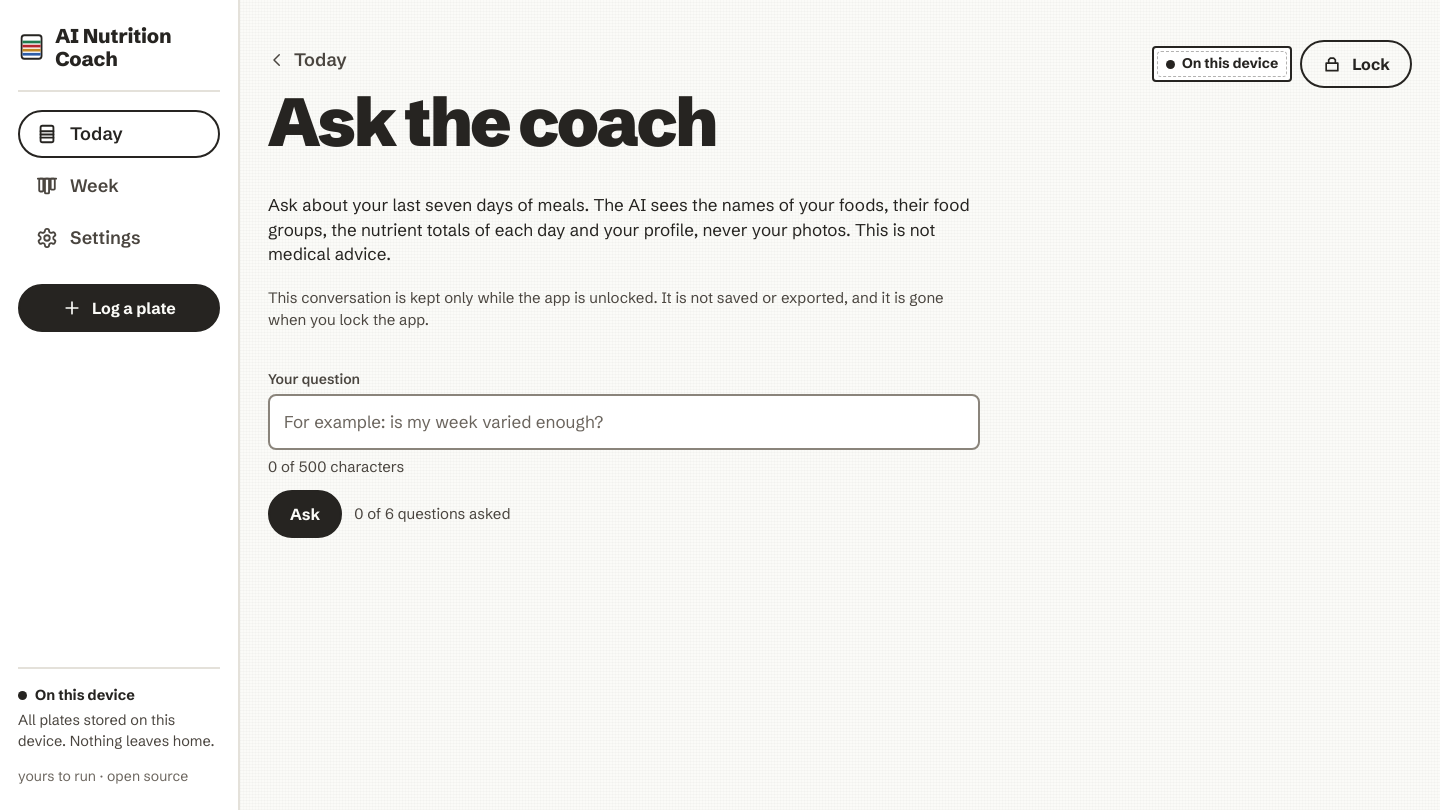
Scenario: Ask the coach: the chat › a worry about eating is answered with the support line and nothing is sent
Expected: the heading "Ask the coach" is shown, [268, 92, 715, 153]
Step 1. Type "I binge at night and then purge" into the field labelled "Your question" → (624, 422), box [270, 396, 978, 448]
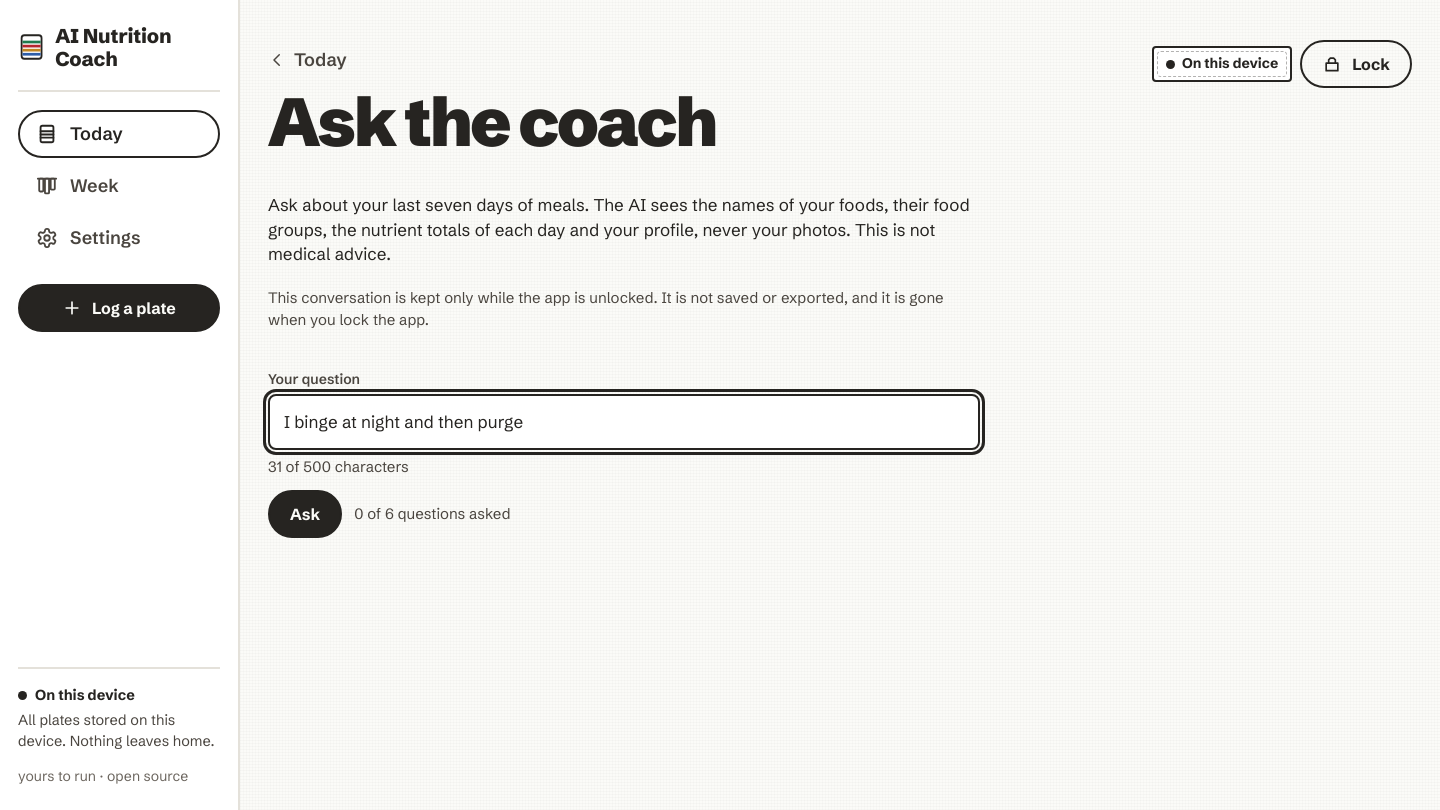
Step 2. Click the button "Ask" → (305, 514), box [268, 490, 342, 538]
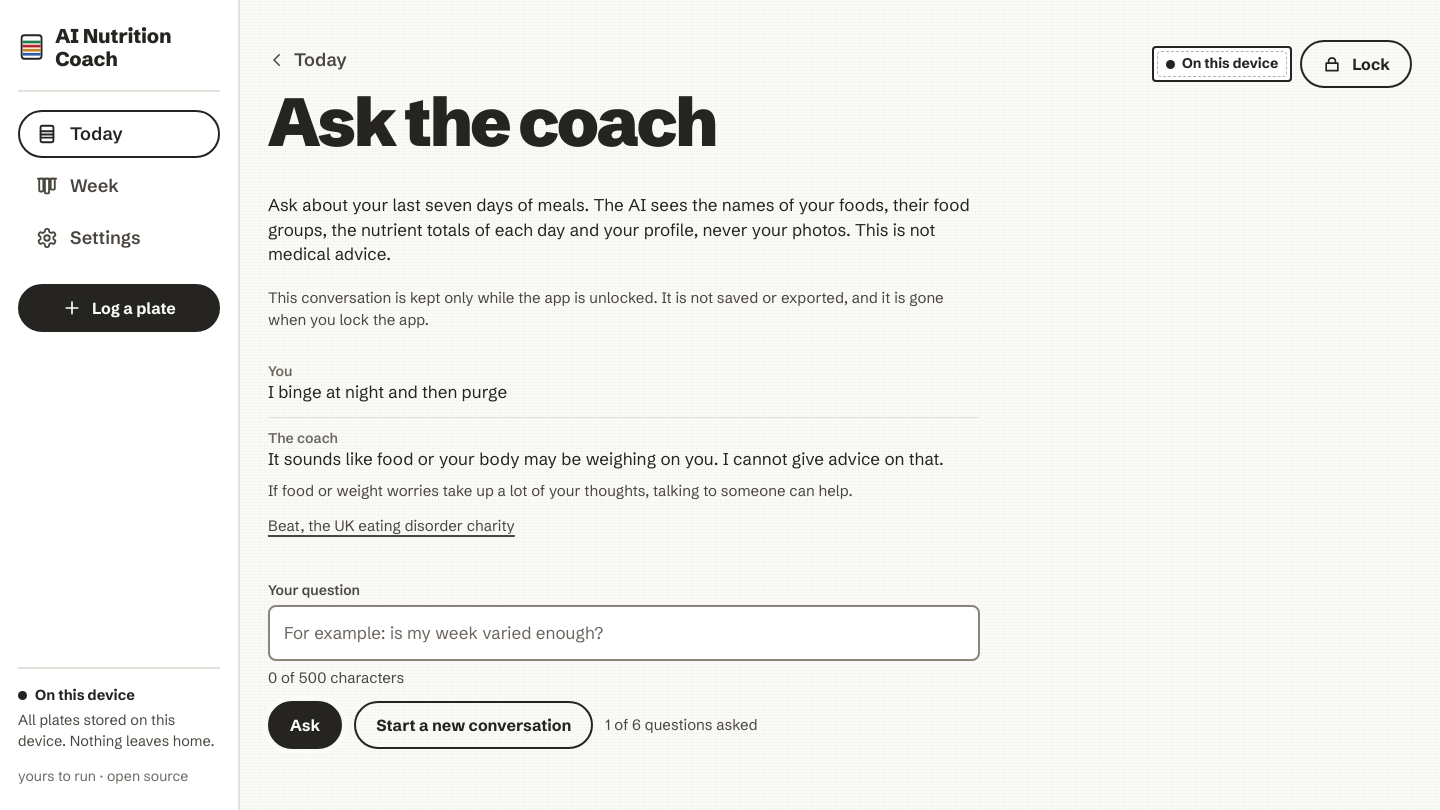
Expected: the text "weighing on you" is shown, [268, 448, 944, 469]
